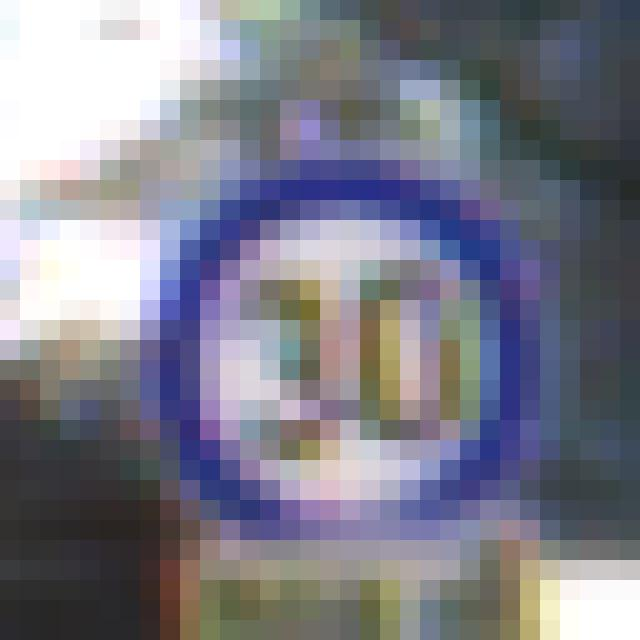SPEED LIMIT 30: (152, 173, 556, 551)
